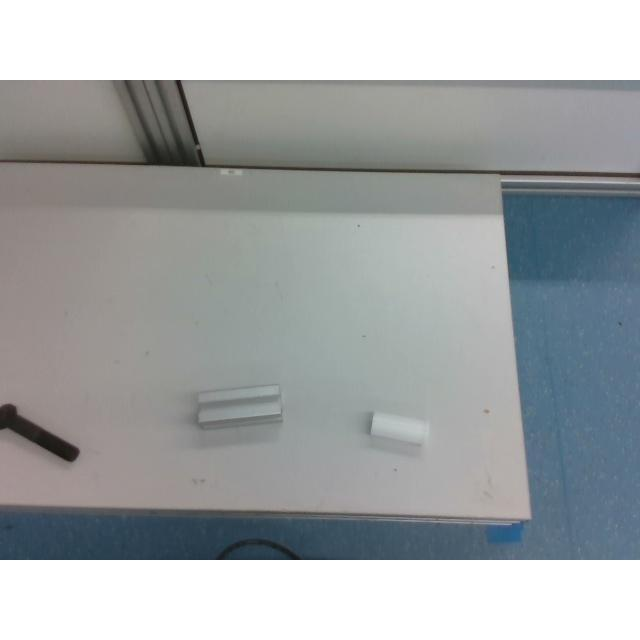M20_100: (0, 404, 78, 461)
S40_40_G: (198, 384, 282, 428)
Spacer: (368, 412, 428, 444)
